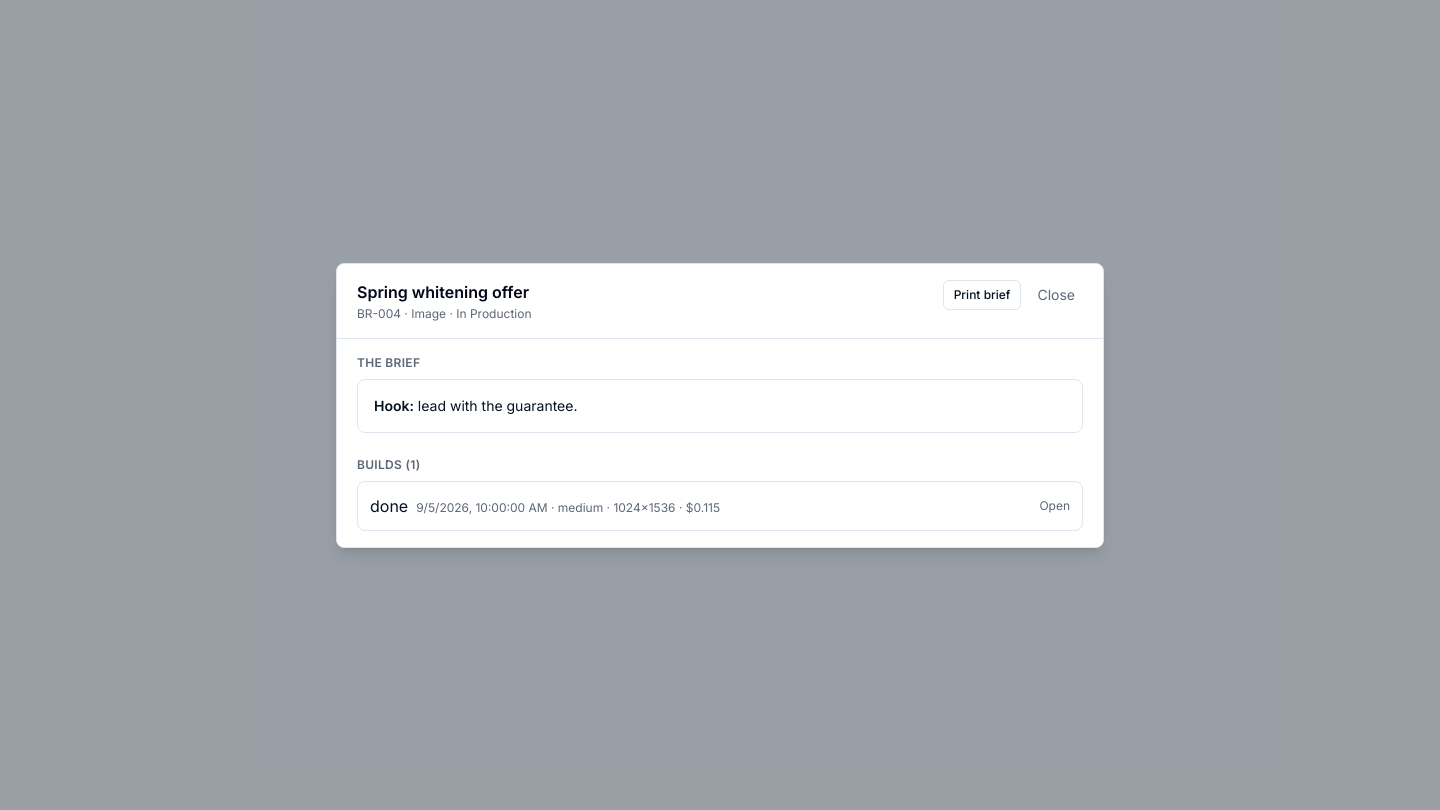
Scenario: BriefDetailModal — build history › collapses again on a second click
Expected: the heading "Builds (1)" is shown, [357,456,420,472]
Click the button "done9/5/2026, 10:00:00 AM · medium · 1024x1536 · $0.115 Open": x=720, y=506 [358,482,1082,530]
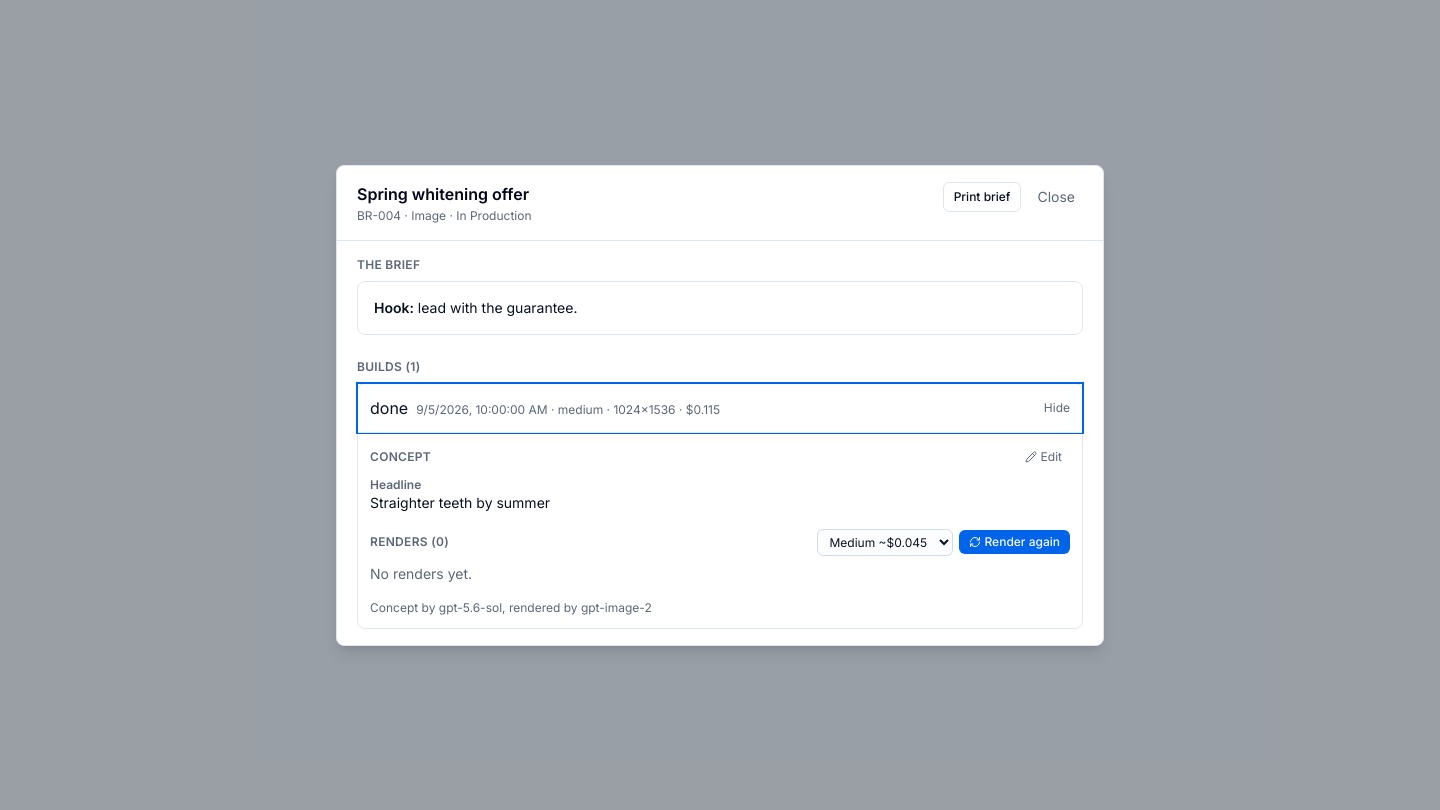
Expected: the text "Straighter teeth by summer" is shown, [370,494,550,510]
Click the button "done9/5/2026, 10:00:00 AM · medium · 1024x1536 · $0.115 Hide": x=720, y=408 [358,384,1082,432]
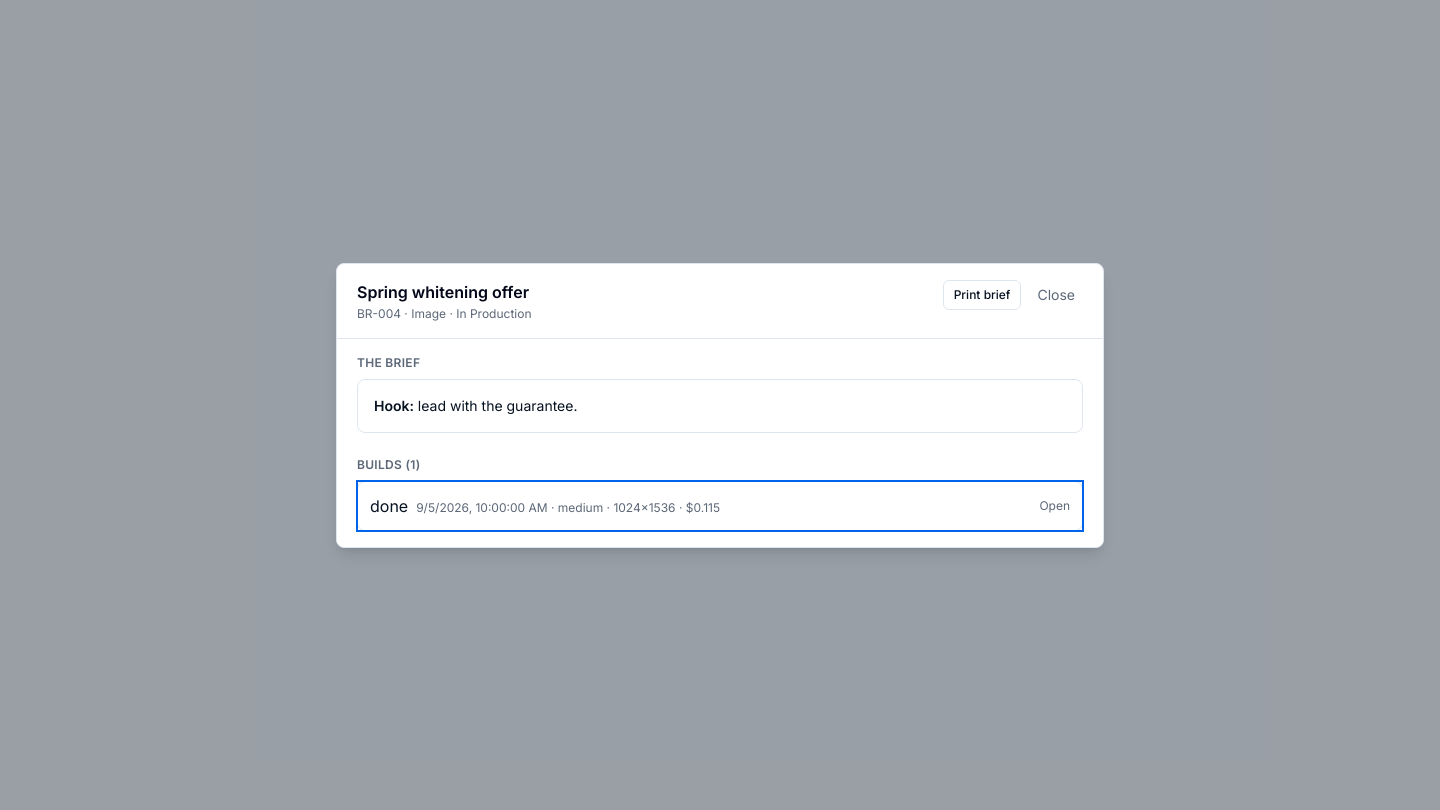
Expected: the text "Straighter teeth by summer" is gone
